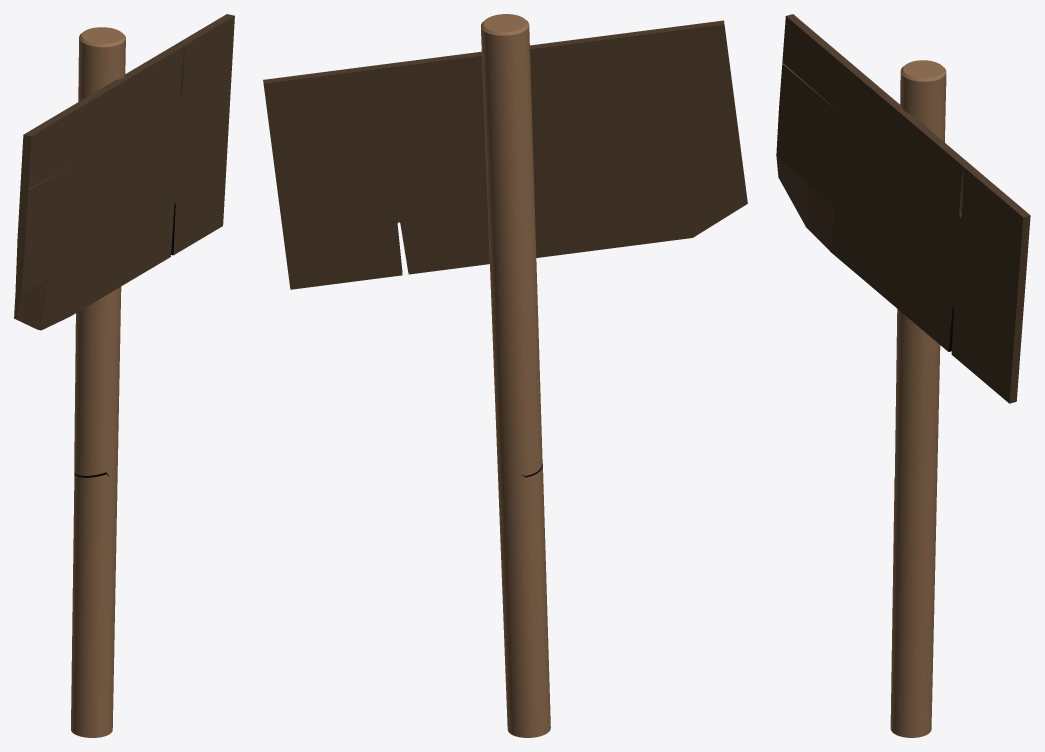
File: Panneau.fbx
3 renders of one model, left to right at view 1: azimuth 30°, elevation 25°; view 2: azimuth 150°, elevation 25°; view 3: azimuth 270°, elevation 25°, orthographic. The views are drawn at different scales.
Visible parts, largest first — view 1: Cube.005, Circle; view 2: Cube.005, Circle; view 3: Cube.005, Circle.
Boxes of the visible parts, x1=… form: Cube.005: x1=14, y1=14, x2=234, y2=330; Circle: x1=71, y1=27, x2=125, y2=737; Cube.005: x1=263, y1=20, x2=747, y2=289; Circle: x1=481, y1=14, x2=550, y2=737; Cube.005: x1=776, y1=14, x2=1030, y2=403; Circle: x1=890, y1=60, x2=946, y2=737.
Bounding box in the file's own units: 69.1 × 131 × 45.17.
